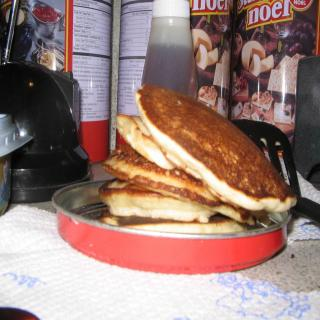Pancake: (102, 88, 298, 235)
